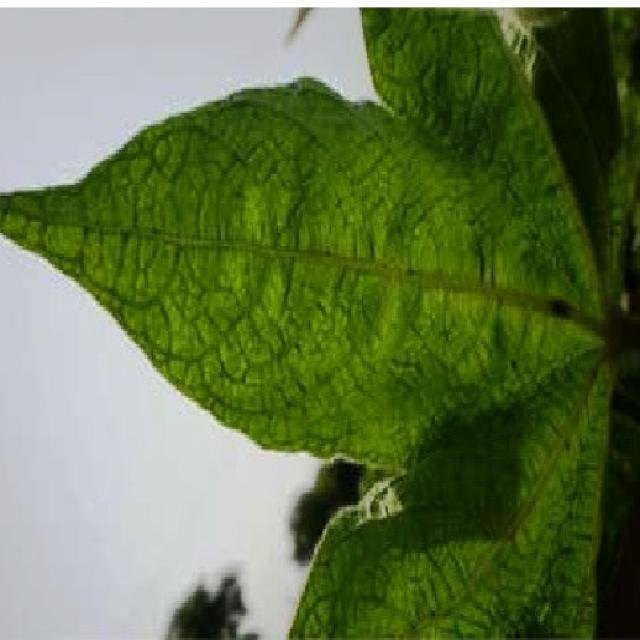Leaf Curl Virus: (161, 128, 589, 486)
